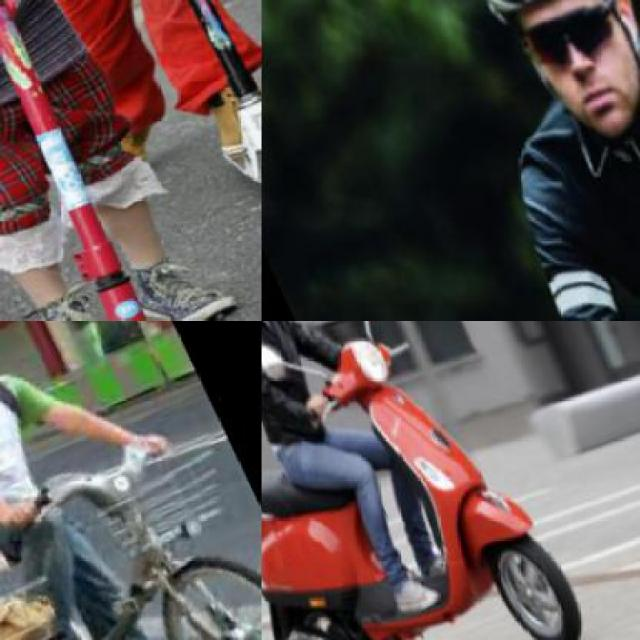With Helmet: (434, 0, 638, 168)
